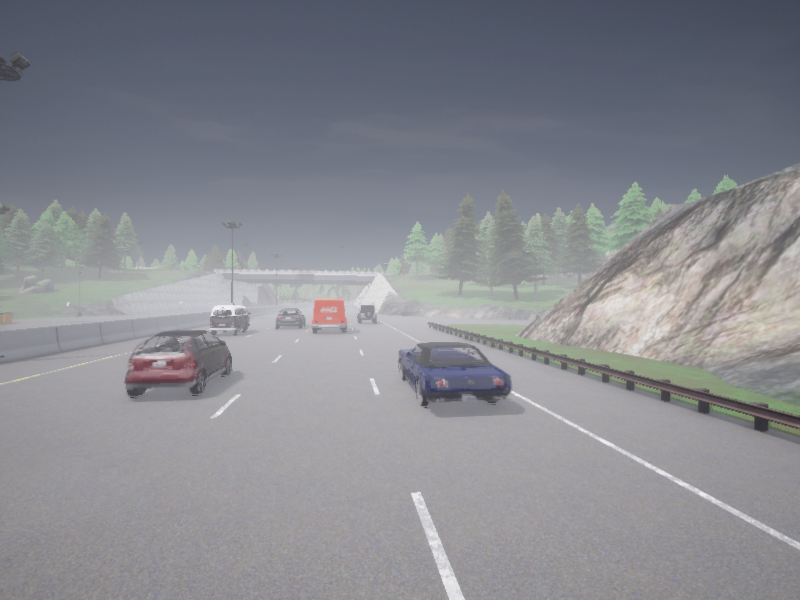vehicle: (402, 351, 501, 400), (210, 316, 246, 326)
